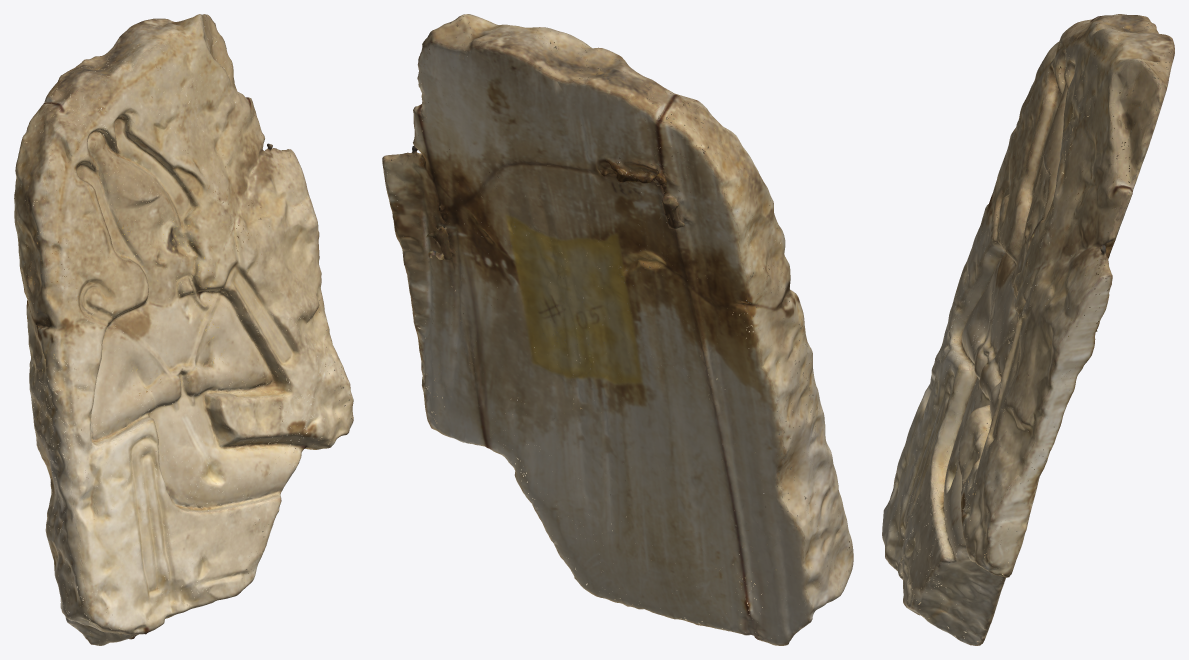
File: first-69d05d2ef716.glb
3 views of the same model, side by side, from view 1: azimuth 30°, elevation 25°; view 2: azimuth 150°, elevation 25°; view 3: azimuth 270°, elevation 25° (orthographic). The views are drawn at different scales.
Visible parts, largest first — view 1: Object_4, Object_5, Object_3, Object_6, Object_2, Object_7; view 2: Object_2, Object_3, Object_6, Object_4, Object_5, Object_7; view 3: Object_5, Object_6, Object_4, Object_3, Object_2, Object_7.
Boxes of the visible parts, x1,y1,x2,y2 form: Object_4: [14, 26, 352, 637]; Object_5: [16, 18, 336, 645]; Object_3: [14, 34, 353, 620]; Object_6: [17, 14, 353, 644]; Object_2: [14, 96, 240, 645]; Object_7: [23, 15, 352, 629]; Object_2: [426, 92, 851, 645]; Object_3: [411, 27, 853, 596]; Object_6: [382, 14, 845, 645]; Object_4: [403, 30, 853, 635]; Object_5: [382, 24, 850, 645]; Object_7: [383, 18, 852, 624]; Object_5: [885, 15, 1173, 645]; Object_6: [883, 15, 1174, 641]; Object_4: [882, 14, 1174, 613]; Object_3: [895, 14, 1174, 643]; Object_2: [882, 29, 1129, 619]; Object_7: [888, 21, 1172, 641].
Bounding box in the file's own units: 177 × 289 × 122.
Materials: 1 (1 with a texture image).
